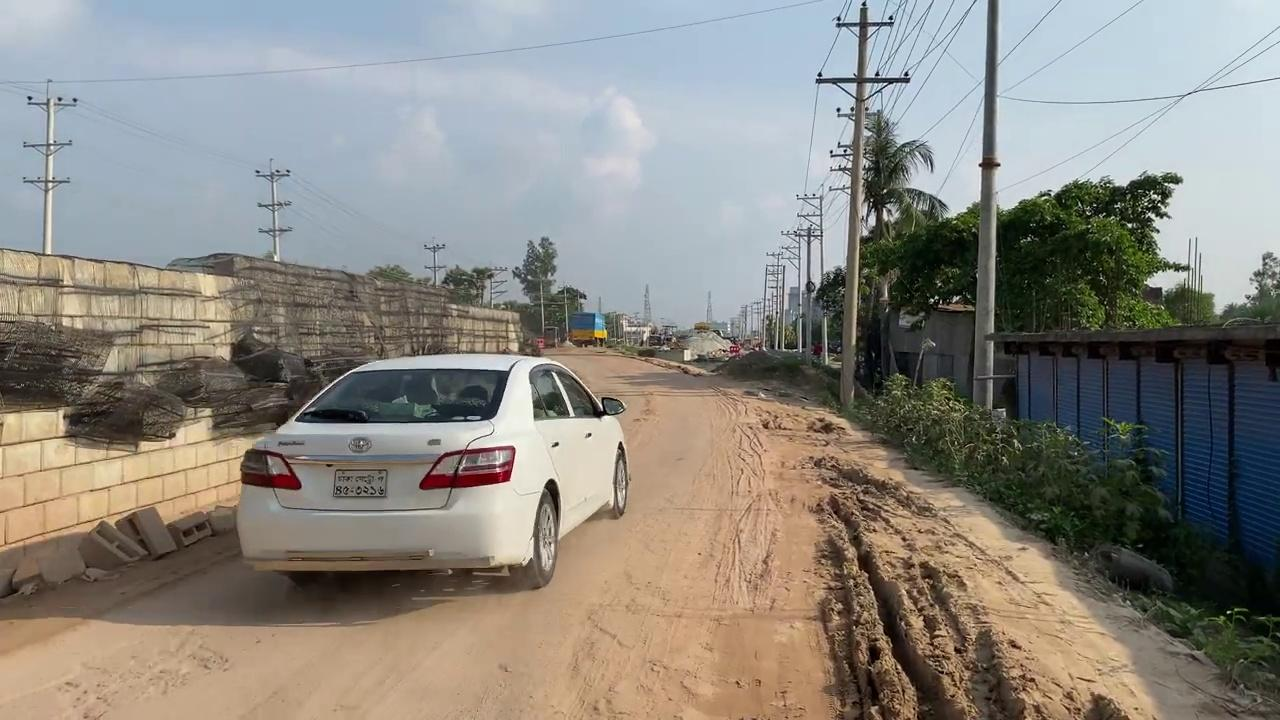Car: (235, 351, 631, 590)
Muddy road: (1, 341, 847, 718)
Pole: (814, 1, 910, 411), (971, 1, 999, 413)
Traffic-sign: (829, 107, 949, 394), (511, 234, 558, 336)
Tree: (567, 311, 607, 347)
Upstairs: (0, 245, 524, 562)
